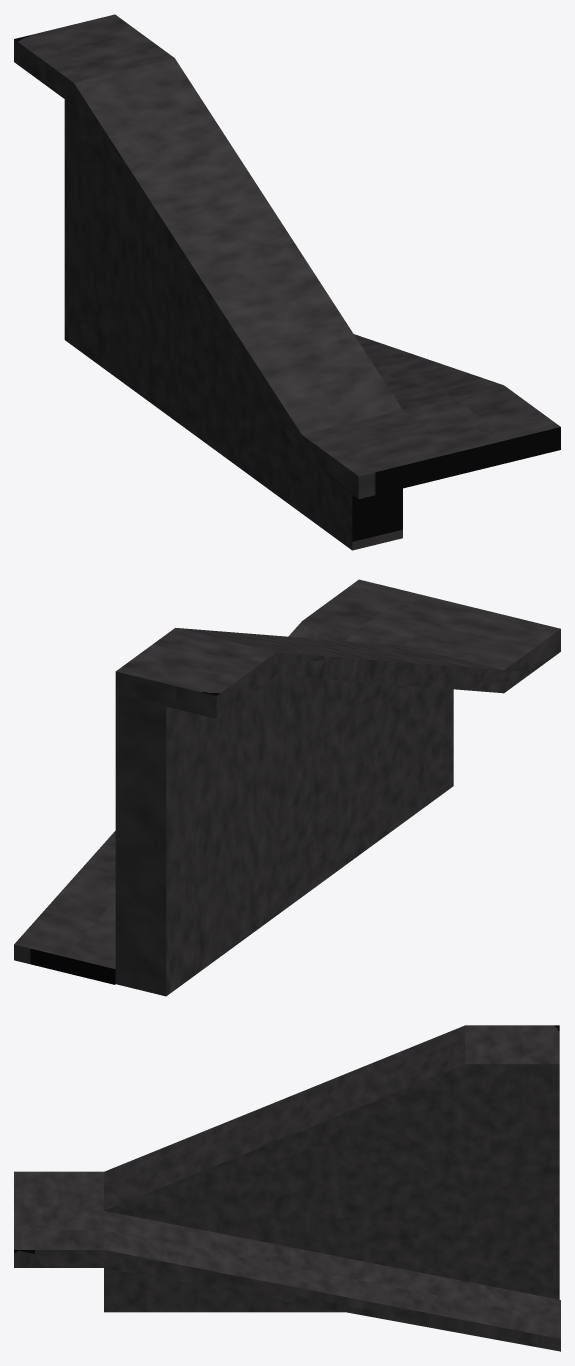
File: Ramp_02.fbx
3 views of the same model, one above another, from view 1: azimuth 30°, elevation 25°; view 2: azimuth 150°, elevation 25°; view 3: azimuth 270°, elevation 25° (orthographic). The views are drawn at different scales.
Visible parts, largest first — view 1: Cube; view 2: Cube; view 3: Cube.
Part boxes in pixels (x1,y1,x2,y2): Cube: (14,14,560,550); Cube: (14,579,560,996); Cube: (14,1025,560,1351).
Bounding box in the file's own units: 800 × 1184 × 2366.
1 material, 1 textured.
